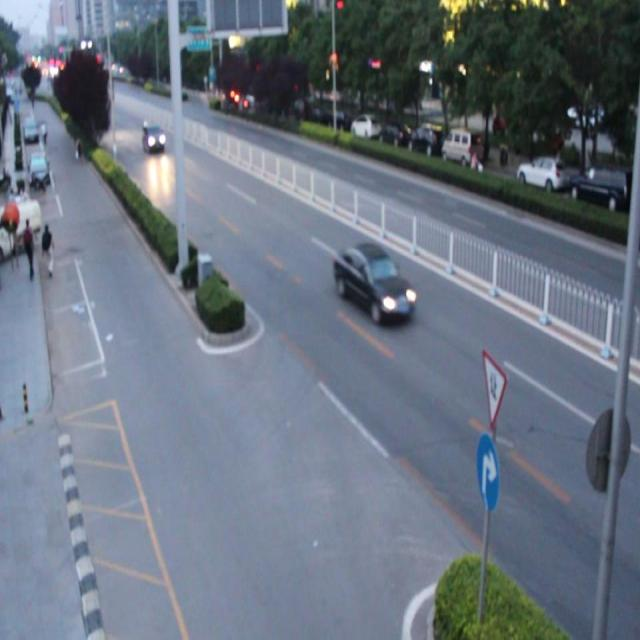car: (333, 242, 417, 326), (143, 123, 166, 151)
